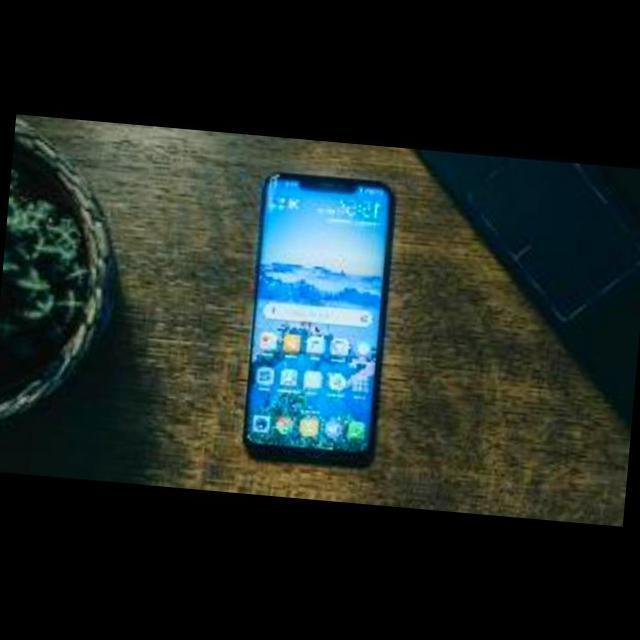mobile: (243, 168, 398, 468)
